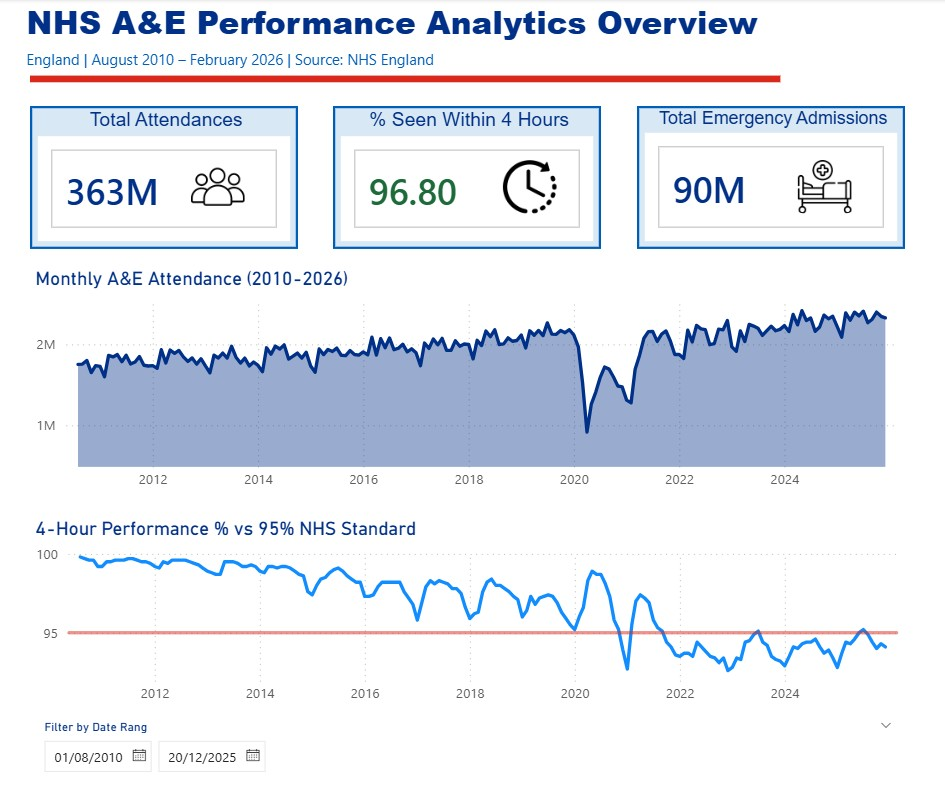

The page's visual inventory and layout, read from the dashboard file:
{"tool":"powerbi","page":{"name":"Overview","canvas":[1280,720],"ordinal":0},"visuals":[{"type":"cardVisual","title":"Total Attendances","fields":{"Data":["Sum(ae_monthly.total_attendances)"]},"box":[143.9,96,240,128],"z":0},{"type":"cardVisual","title":"% Seen Within 4 Hours","fields":{"Data":["ae_monthly.Pct Within 4hrs"]},"box":[415.9,96,240,128],"z":1000},{"type":"cardVisual","title":"Total Emergency Admissions","fields":{"Data":["Sum(ae_monthly.total_emergency_admissions)"]},"box":[687.9,96,240,128],"z":2000},{"type":"lineChart","title":"Monthly A&E Attendance (2010-2026)","fields":{"Category":["ae_monthly.period_date"],"Y":["Sum(ae_monthly.total_attendances)"]},"box":[143.9,240,784,208],"z":3000},{"type":"slicer","fields":{"Values":["ae_monthly.period_date"]},"box":[143.9,640,784,80],"z":4000},{"type":"lineChart","title":" 4-Hour Performance % vs 95% NHS Standard","fields":{"Category":["ae_monthly.period_date"],"Y":["ae_monthly.Pct Within 4hrs"]},"box":[143.9,464,784,176],"z":5000},{"type":"textbox","title":"NHS A&E Performance Analytics  Overview","box":[136,0,688,80],"z":6000},{"type":"shape","box":[144,64,672,16],"z":8000},{"type":"image","box":[815.9,144,80,48],"z":9000},{"type":"image","box":[287.9,144,48,48],"z":10000},{"type":"image","box":[559.9,144,64,48],"z":11000}]}

Visuals, with their boxes on the page's 1280x720 design canvas (x1, y1, x2, y2). These are canvas units, not pixel positions in the 945x800 screenshot, which may show the page scaled, cropped or inside an application window:
"Total Attendances" cardVisual: [x1=144, y1=96, x2=384, y2=224]
"% Seen Within 4 Hours" cardVisual: [x1=416, y1=96, x2=656, y2=224]
"Total Emergency Admissions" cardVisual: [x1=688, y1=96, x2=928, y2=224]
"Monthly A&E Attendance (2010-2026)" lineChart: [x1=144, y1=240, x2=928, y2=448]
slicer - ae_monthly.period_date: [x1=144, y1=640, x2=928, y2=720]
" 4-Hour Performance % vs 95% NHS Standard" lineChart: [x1=144, y1=464, x2=928, y2=640]
"NHS A&E Performance Analytics  Overview" textbox: [x1=136, y1=0, x2=824, y2=80]
shape: [x1=144, y1=64, x2=816, y2=80]
image: [x1=816, y1=144, x2=896, y2=192]
image: [x1=288, y1=144, x2=336, y2=192]
image: [x1=560, y1=144, x2=624, y2=192]
